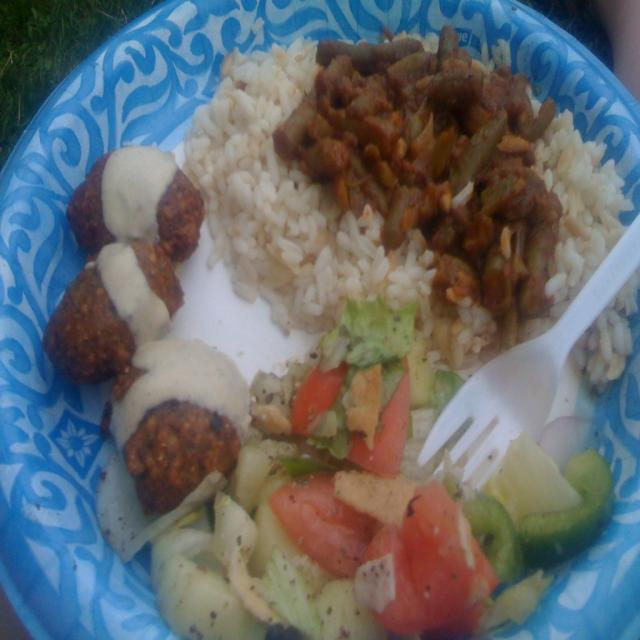Salad: (144, 293, 616, 639)
